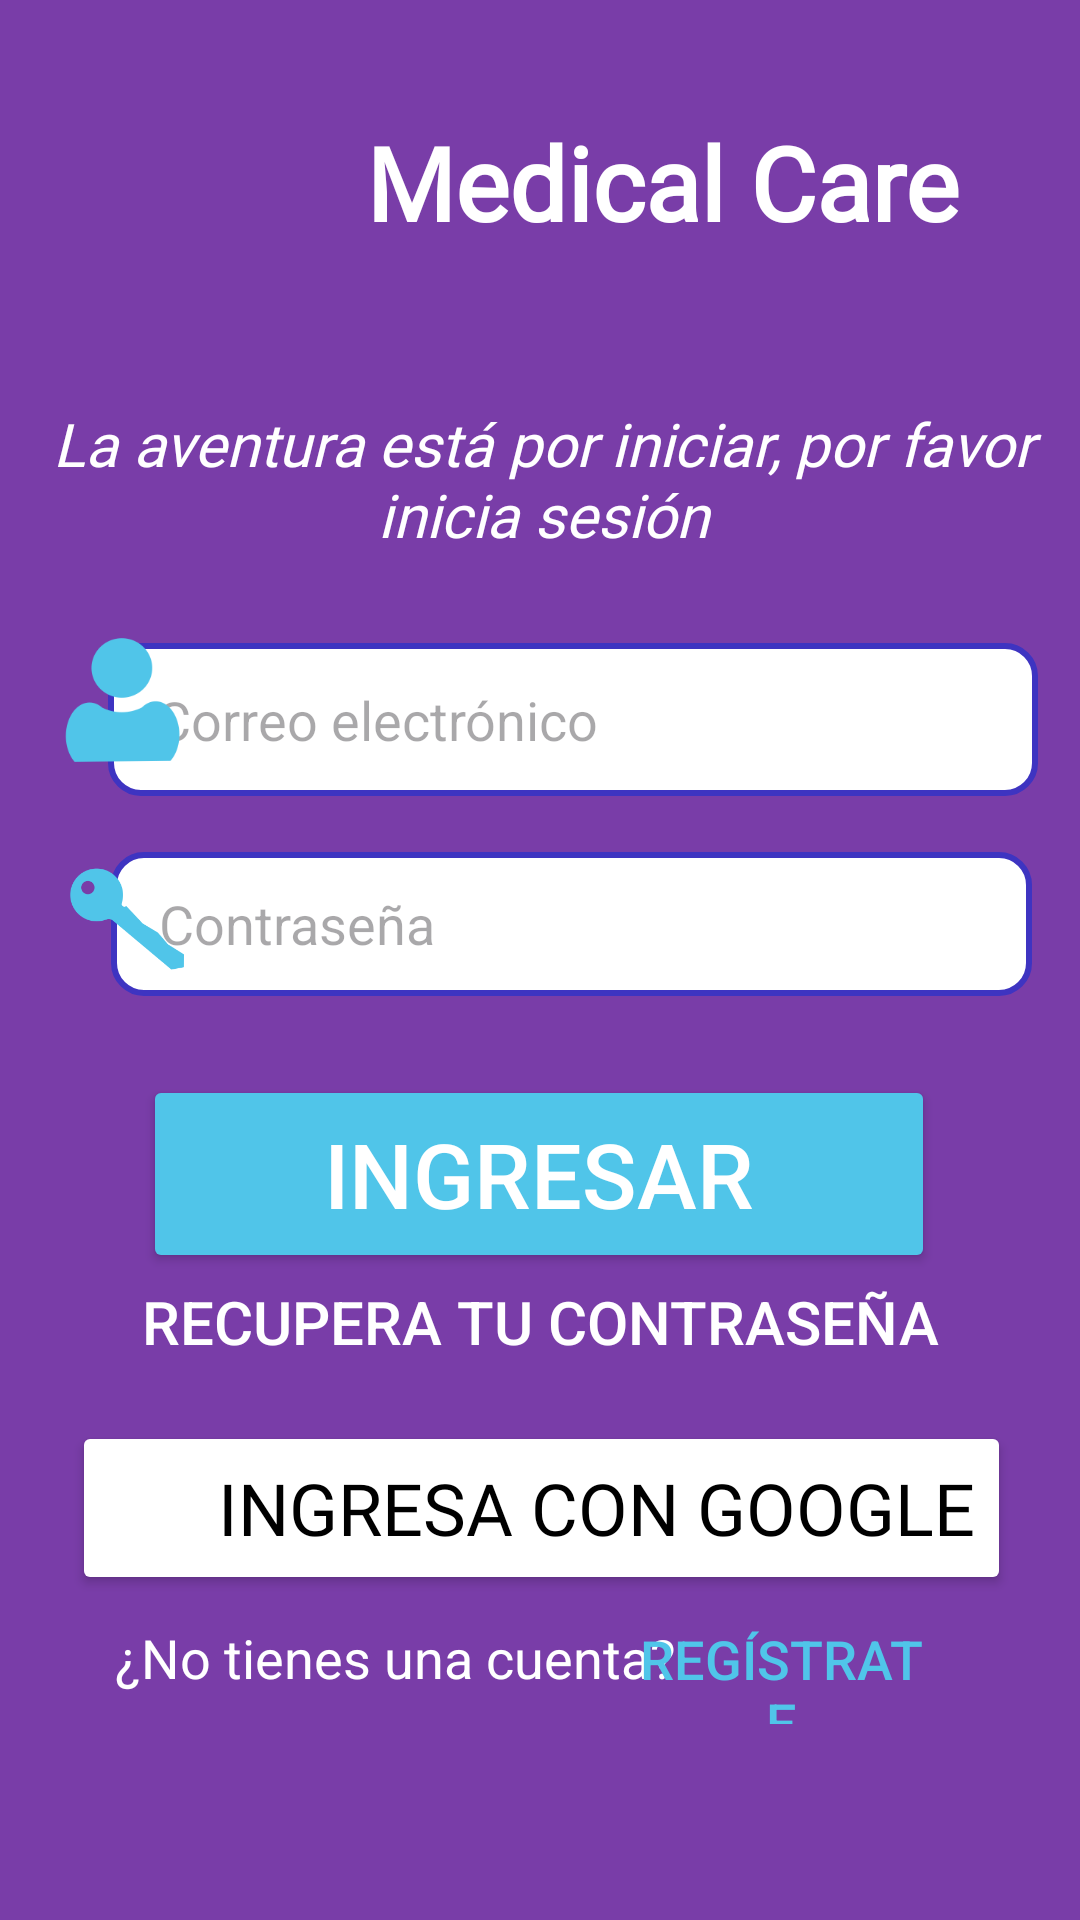

Point at icon controls on the screen. Image size 1080*1920, points as point (x, y).
password: point (127, 924)
user: point (124, 708)
